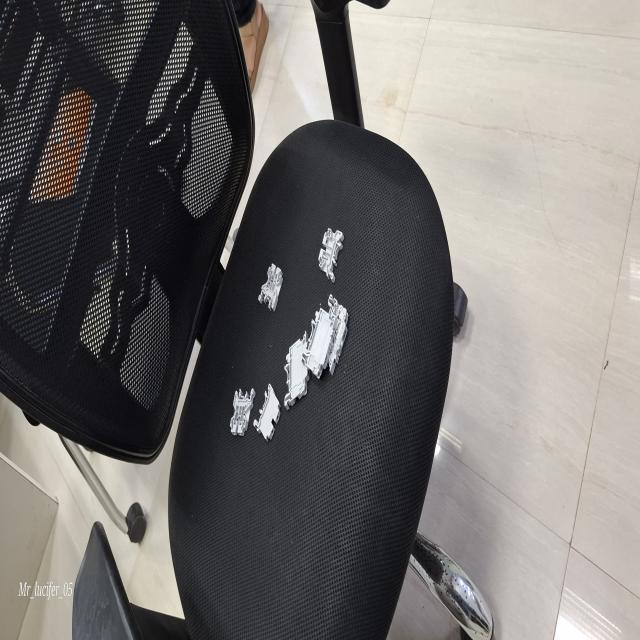Inverted: (253, 379, 285, 461)
Pass: (218, 382, 254, 450)
Reject: (313, 212, 352, 290), (252, 251, 287, 330)
